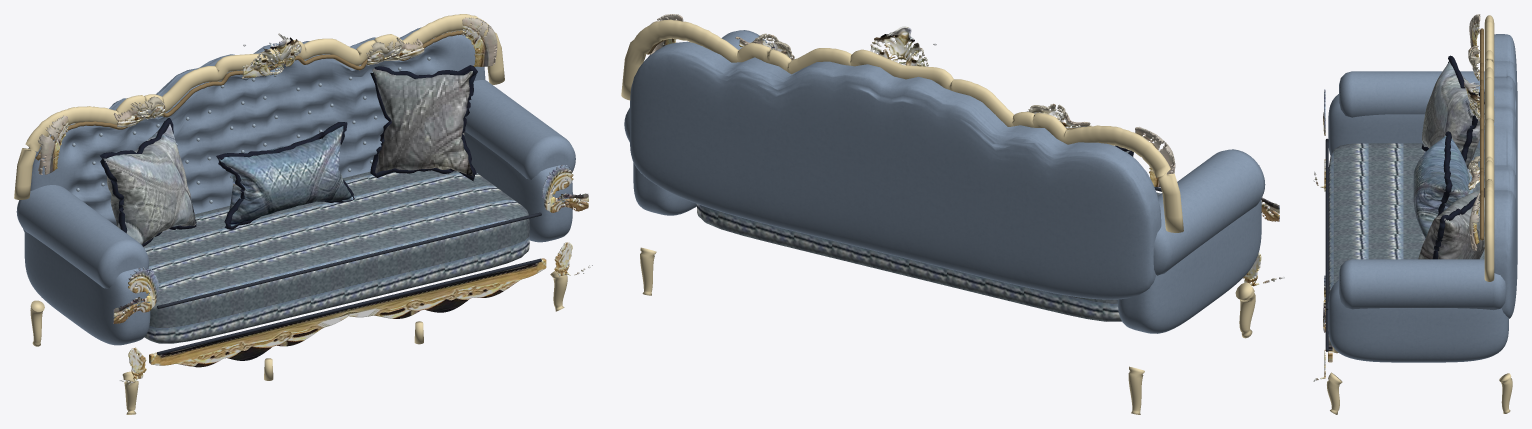
File: aventure-royal-sofa-set--sofa3.glb
3 views of the same model, side by side, from view 1: azimuth 30°, elevation 25°; view 2: azimuth 150°, elevation 25°; view 3: azimuth 270°, elevation 25° (orthographic). The views are drawn at different scales.
Parts seen in each view (by area): view 1: seat, back, pilR, rail, pilC, armroll-1, armside-1, pilL, armroll1, armside1, apron-1, apron1 (+13 smaller); view 2: back, rail, armside-1, seat, armroll-1, armside1, crest, legf-1, armscroll-1, cornerR; view 3: seat, armside1, armroll1, back, armroll-1, pilL, pilC, armside-1, rail, pilR, railbead, welt0.47 (+12 smaller).
Boxes of the visible parts, bbox=[...] form: seat: bbox=[143, 170, 529, 343]; back: bbox=[23, 27, 485, 231]; pilR: bbox=[372, 68, 473, 176]; rail: bbox=[14, 14, 504, 199]; pilC: bbox=[218, 126, 353, 226]; armroll-1: bbox=[16, 185, 149, 288]; armside-1: bbox=[24, 230, 150, 345]; pilL: bbox=[103, 124, 195, 244]; armroll1: bbox=[465, 80, 575, 179]; armside1: bbox=[464, 131, 572, 242]; apron-1: bbox=[149, 309, 348, 367]; apron1: bbox=[348, 258, 546, 318]; back: bbox=[630, 41, 1161, 299]; rail: bbox=[621, 19, 1183, 232]; armside-1: bbox=[1117, 199, 1261, 333]; seat: bbox=[696, 192, 1160, 321]; armroll-1: bbox=[1153, 149, 1265, 275]; armside1: bbox=[633, 162, 696, 215]; crest: bbox=[870, 26, 936, 66]; legf-1: bbox=[1235, 282, 1255, 338]; armscroll-1: bbox=[1242, 165, 1284, 286]; cornerR: bbox=[1135, 127, 1175, 186]; seat: bbox=[1328, 143, 1484, 297]; armside1: bbox=[1328, 280, 1508, 362]; armroll1: bbox=[1339, 259, 1506, 310]; back: bbox=[1484, 34, 1517, 318]; armroll-1: bbox=[1339, 71, 1484, 117]; pilL: bbox=[1422, 61, 1484, 169]; pilC: bbox=[1413, 136, 1469, 237]; armside-1: bbox=[1328, 94, 1484, 155]; rail: bbox=[1484, 15, 1494, 281]; pilR: bbox=[1418, 190, 1484, 259]; railbead: bbox=[1480, 28, 1483, 240]; welt0.47: bbox=[1325, 138, 1328, 309].
Bounding box in the file's own units: 2.34 × 1.23 × 0.939.
19 materials, 15 textured.
